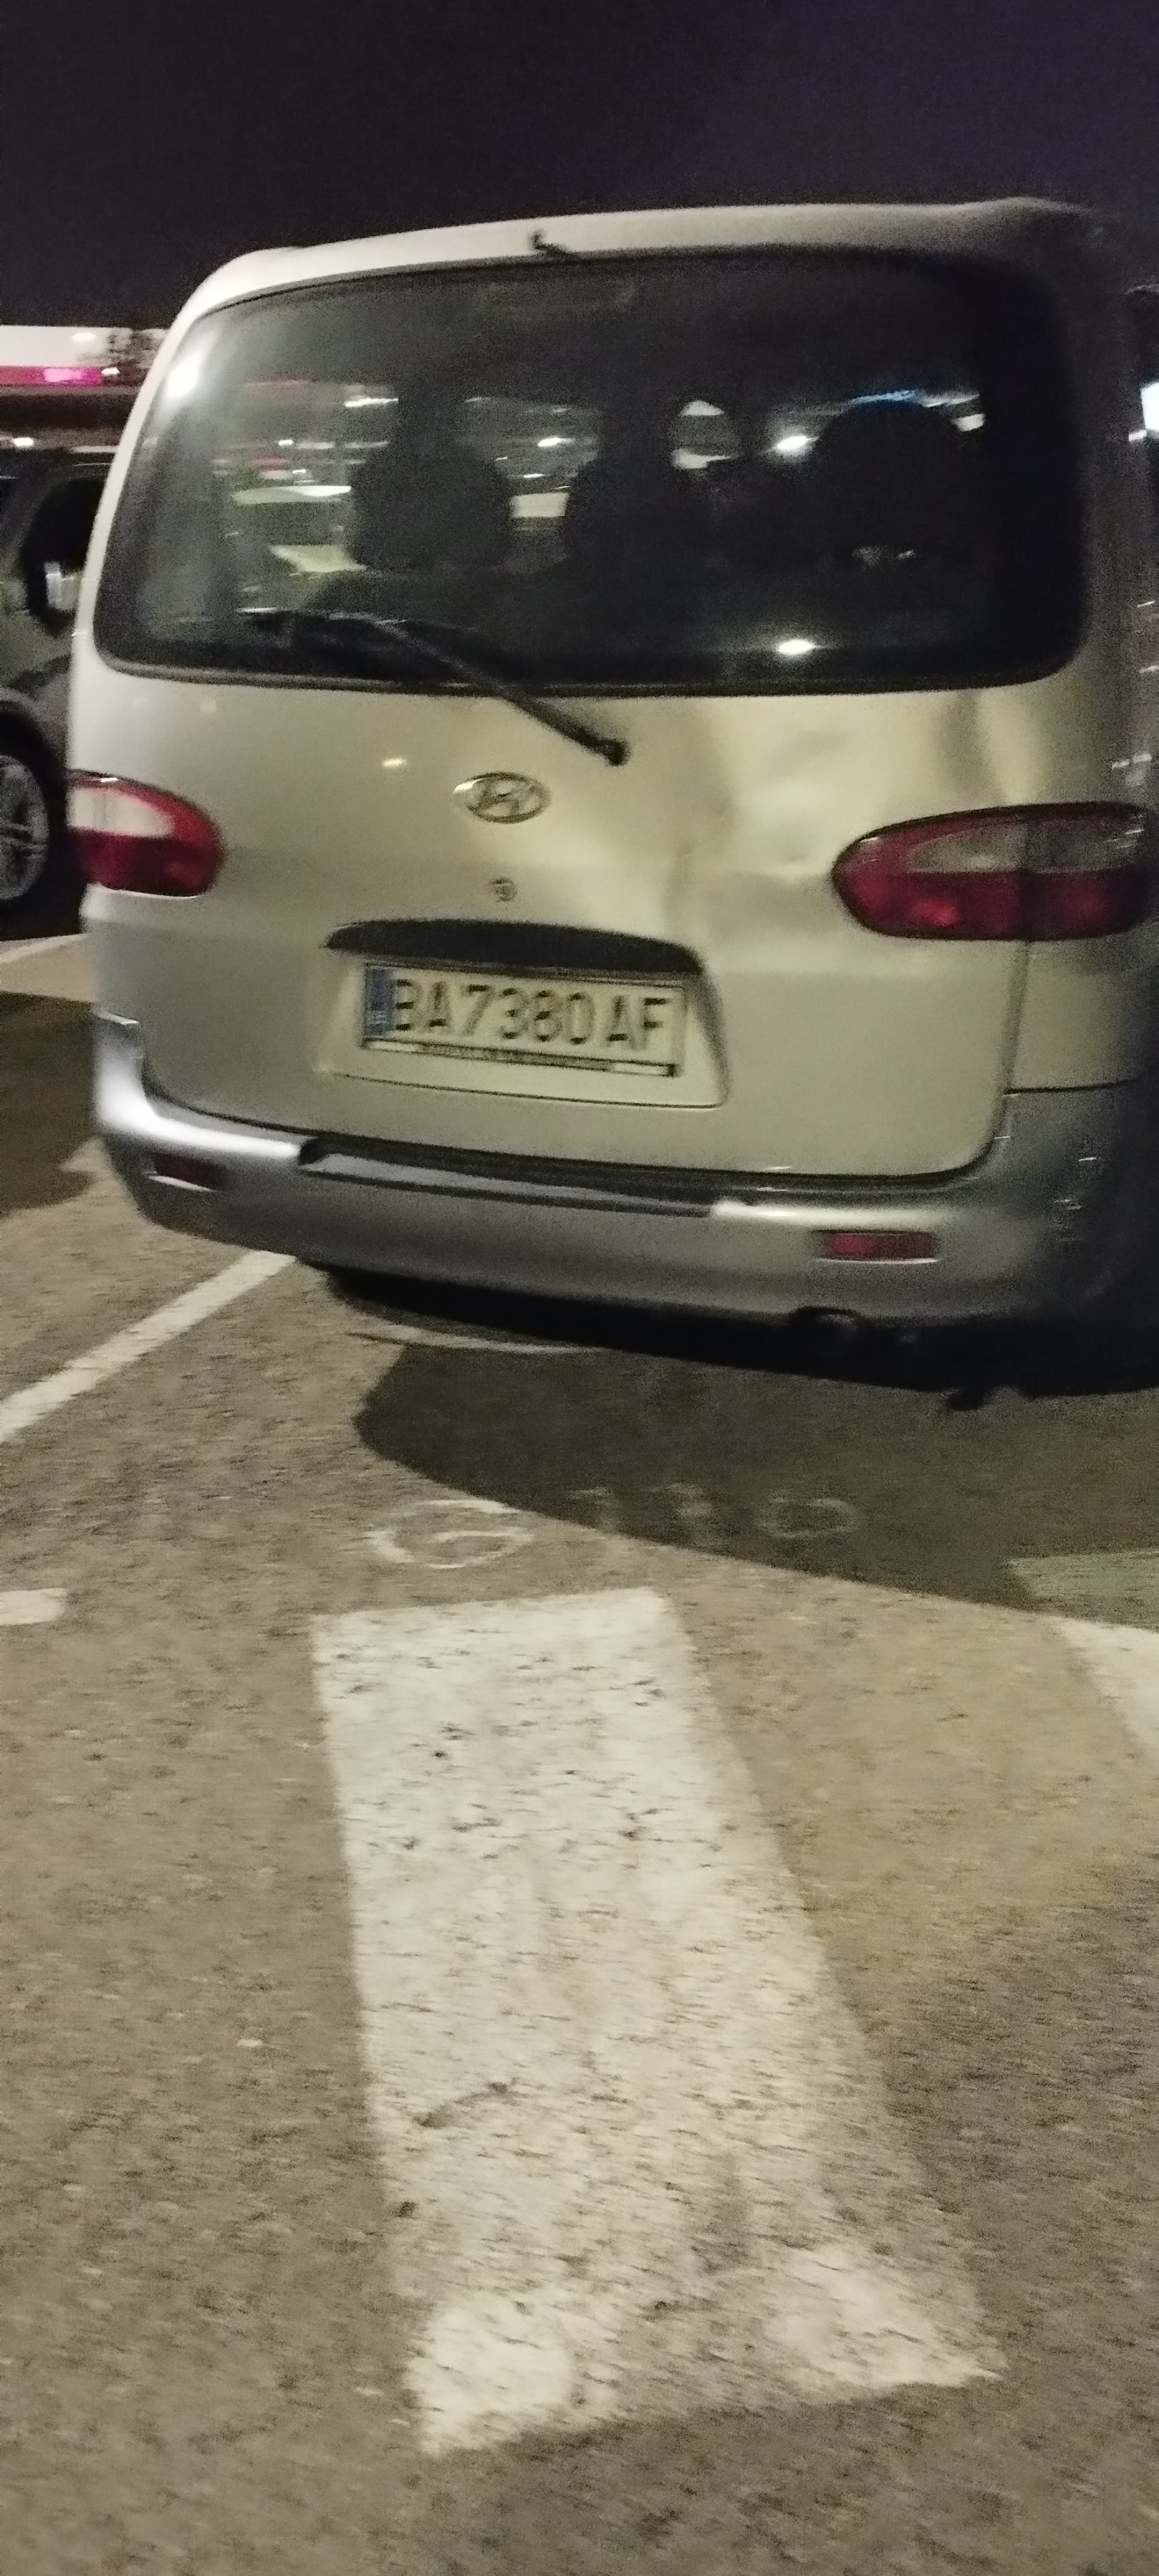Car: (61, 196, 1158, 1383)
Plate: (374, 960, 691, 1050)
